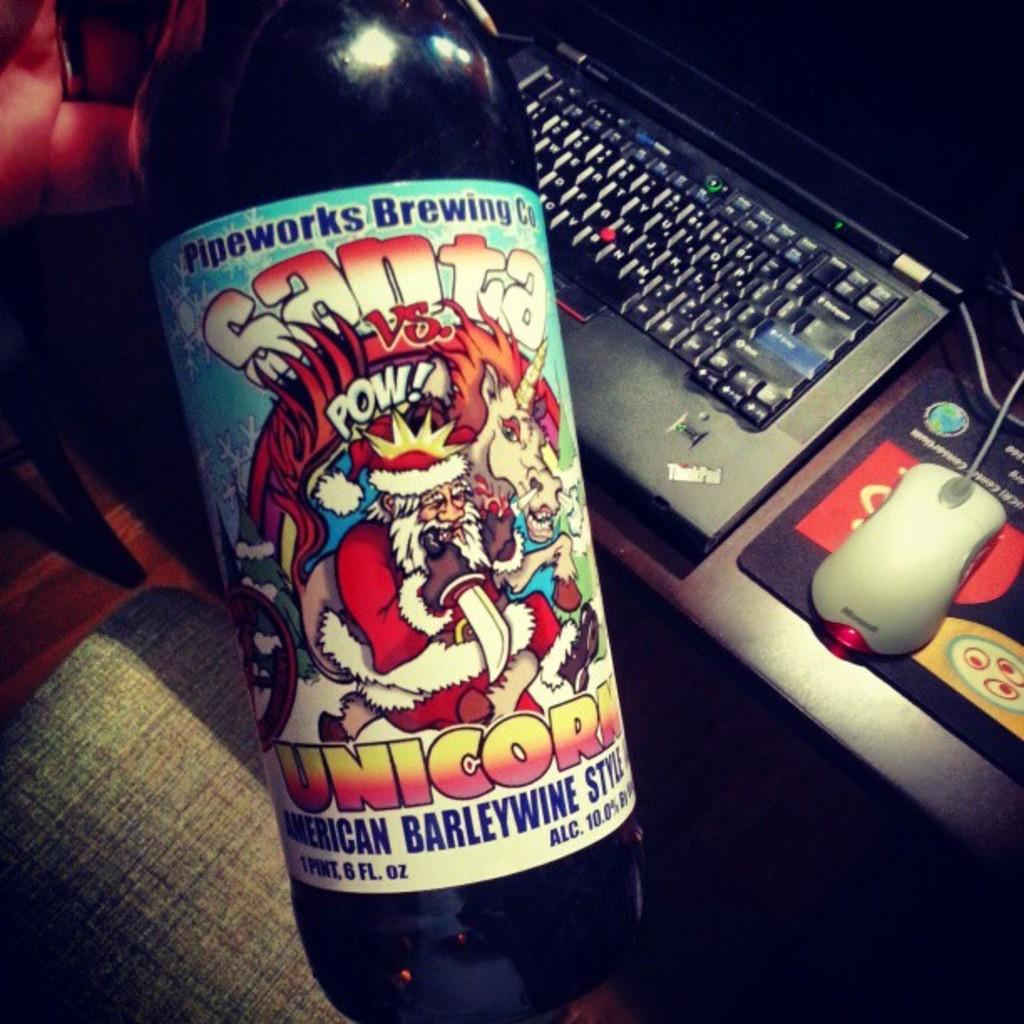Computer-mouse: (808, 460, 1016, 649)
